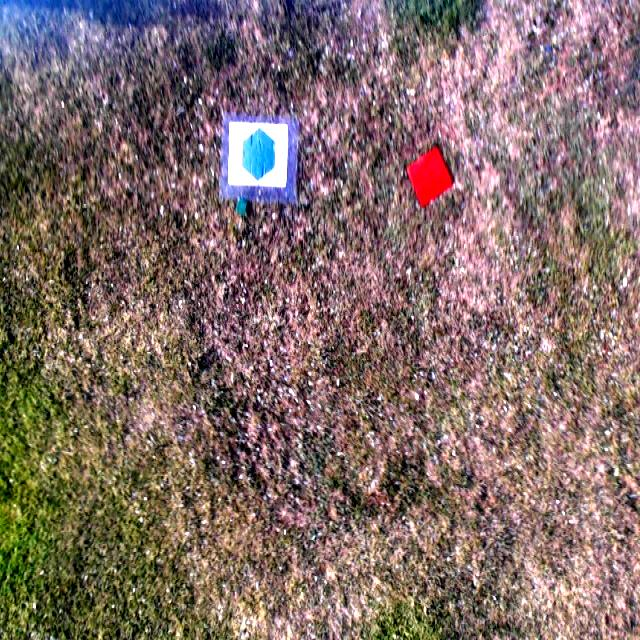blue_hexagon: (242, 128, 275, 179)
red_square: (408, 147, 452, 204)
